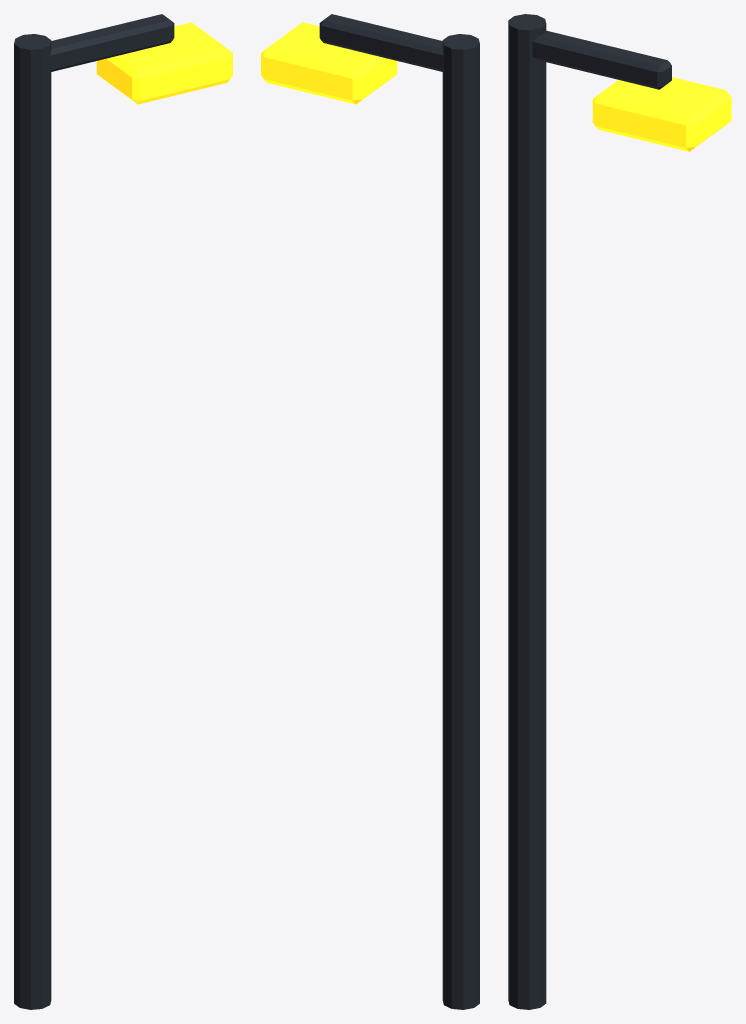
Rendered from streetlamp_a.glb.
3 views of the same model, side by side, from view 1: azimuth 30°, elevation 25°; view 2: azimuth 150°, elevation 25°; view 3: azimuth 330°, elevation 25° (orthographic). The views are drawn at different scales.
Visible parts, largest first — view 1: StreetLamp_A_Pole, StreetLamp_A_Glow, StreetLamp_A_Arm; view 2: StreetLamp_A_Pole, StreetLamp_A_Glow, StreetLamp_A_Arm; view 3: StreetLamp_A_Pole, StreetLamp_A_Glow, StreetLamp_A_Arm.
Boxes of the visible parts, x1,y1,x2,y2 form: StreetLamp_A_Pole: (14, 34, 51, 1009); StreetLamp_A_Glow: (96, 22, 232, 104); StreetLamp_A_Arm: (50, 14, 174, 71); StreetLamp_A_Pole: (442, 34, 479, 1009); StreetLamp_A_Glow: (261, 22, 397, 104); StreetLamp_A_Arm: (319, 14, 443, 71); StreetLamp_A_Pole: (508, 14, 546, 1009); StreetLamp_A_Glow: (592, 77, 731, 151); StreetLamp_A_Arm: (532, 30, 671, 89).
Bounding box in the file's own units: 1.08 × 5 × 0.4.
